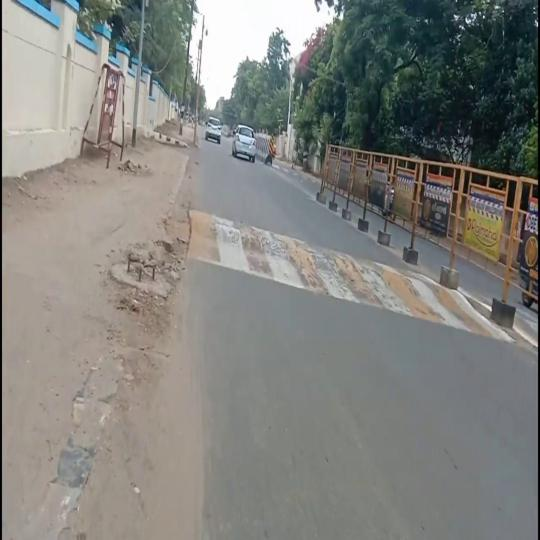Speed Bump: (186, 208, 330, 296), (330, 250, 404, 314), (442, 289, 491, 338), (405, 271, 441, 323), (517, 311, 538, 350)
